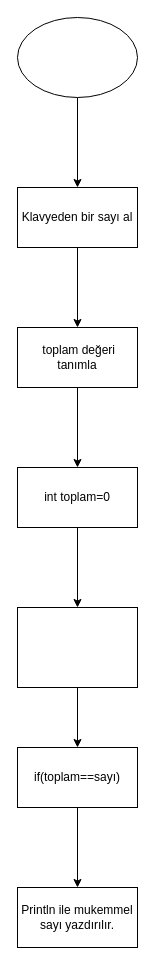
Image size: 155x965. Some labels were removed from this diagram. The box of each missing label's shape, as (x1, y1, x2, y2) in pixels:
for(int i=1; i<sayı; i++) { if(sayı % i==0){ toplam=toplam+i }}: (16, 606, 138, 688)
Start: (16, 16, 138, 98)
